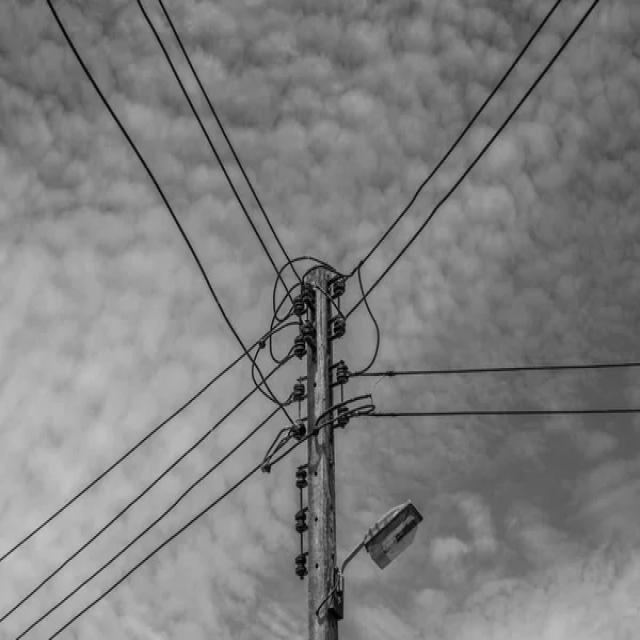Pole: (307, 265, 338, 640)
